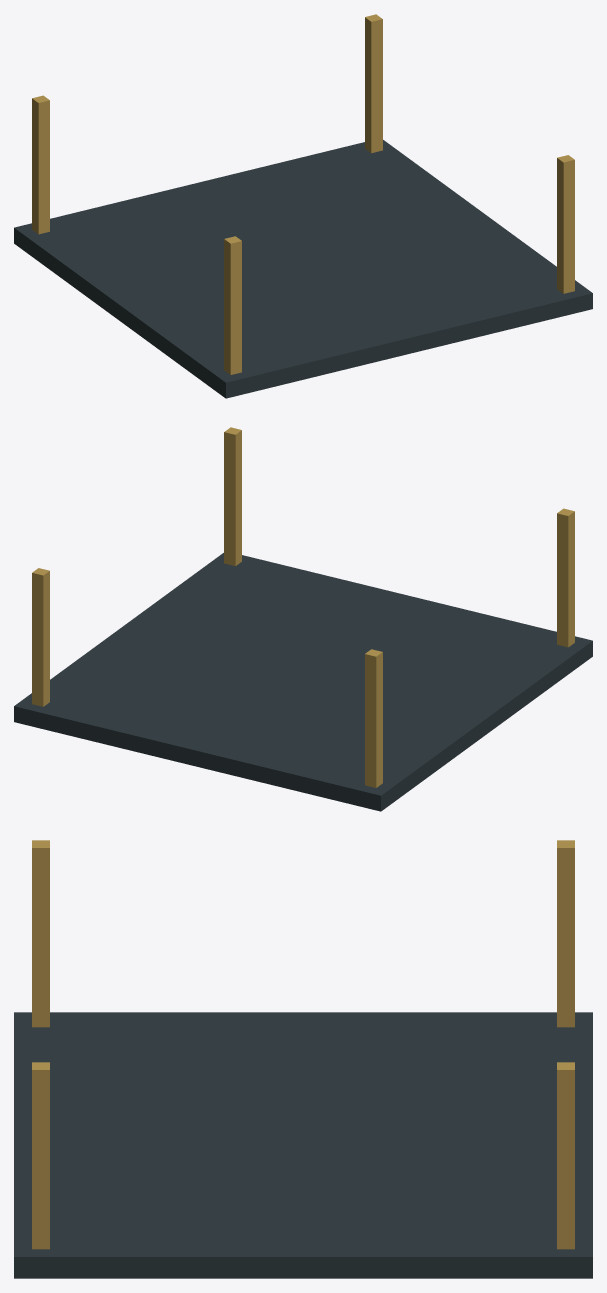
File: construction-lod1.2e031f16fec1.glb
3 views of the same model, one above another, from view 1: azimuth 30°, elevation 25°; view 2: azimuth 150°, elevation 25°; view 3: azimuth 270°, elevation 25° (orthographic). The views are drawn at different scales.
Parts seen in each view (by area): view 1: body; view 2: body; view 3: body.
Part boxes in pixels (bbox=[...]): body: bbox=[14, 14, 592, 398]; body: bbox=[14, 427, 592, 811]; body: bbox=[14, 840, 592, 1278].
Bounding box in the file's own units: 3.86 × 1.48 × 3.86.
